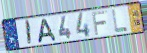4: (75, 12, 92, 39), (58, 15, 73, 41)
A: (37, 17, 58, 44)
F: (91, 9, 109, 36)
I: (25, 18, 33, 46)
L: (111, 8, 129, 34)
